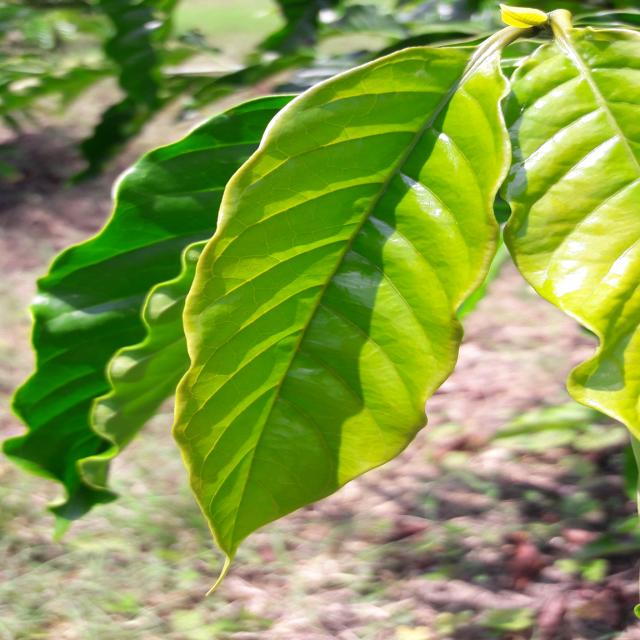Sanas: (172, 24, 553, 561)
